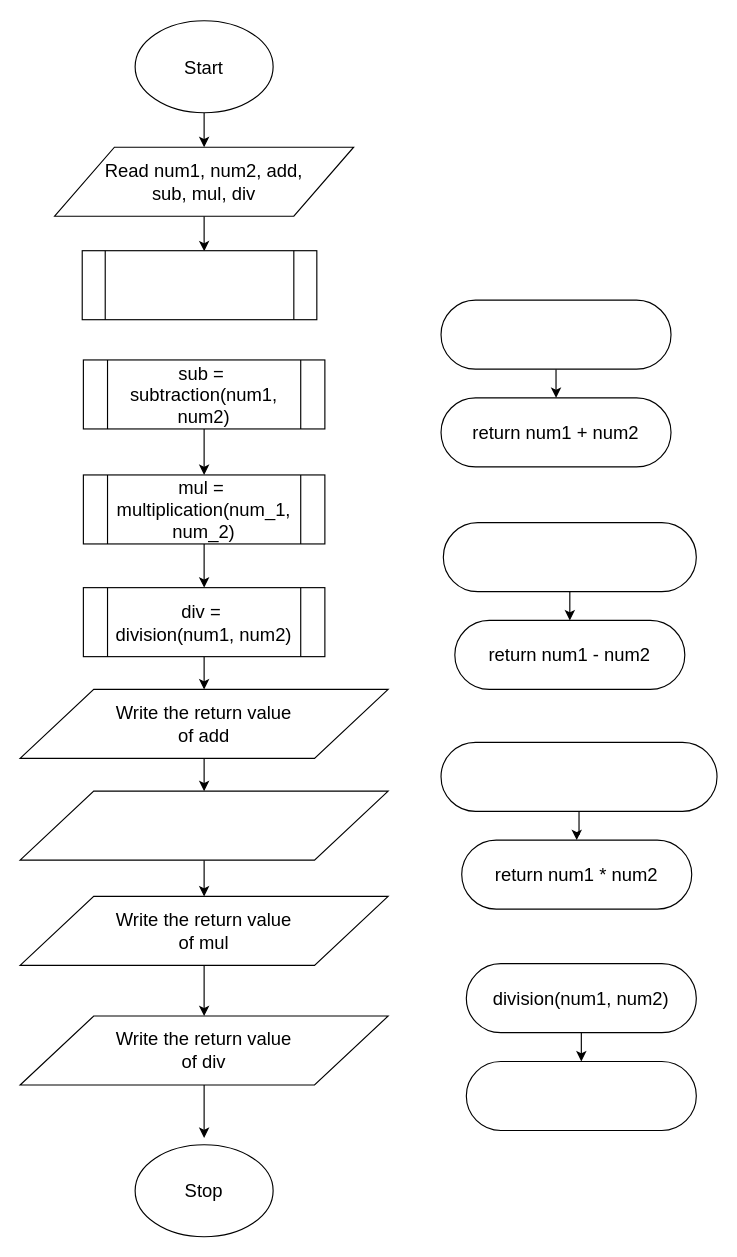
Some shapes in this 737 by 1257 pixel diagram are drawn without their labels. The shapes that lost their labels are listed below. From the top down, each one's centre as x and y in pixels, then its label:
[199,285]: add = addition(num1, num2)
[555,334]: addition(num_1, num_2)
[569,557]: subtraction(num1, num2)
[578,776]: multiplication(num1, num2)
[203,825]: Write the return value of sub
[580,1095]: return num1 / num2
